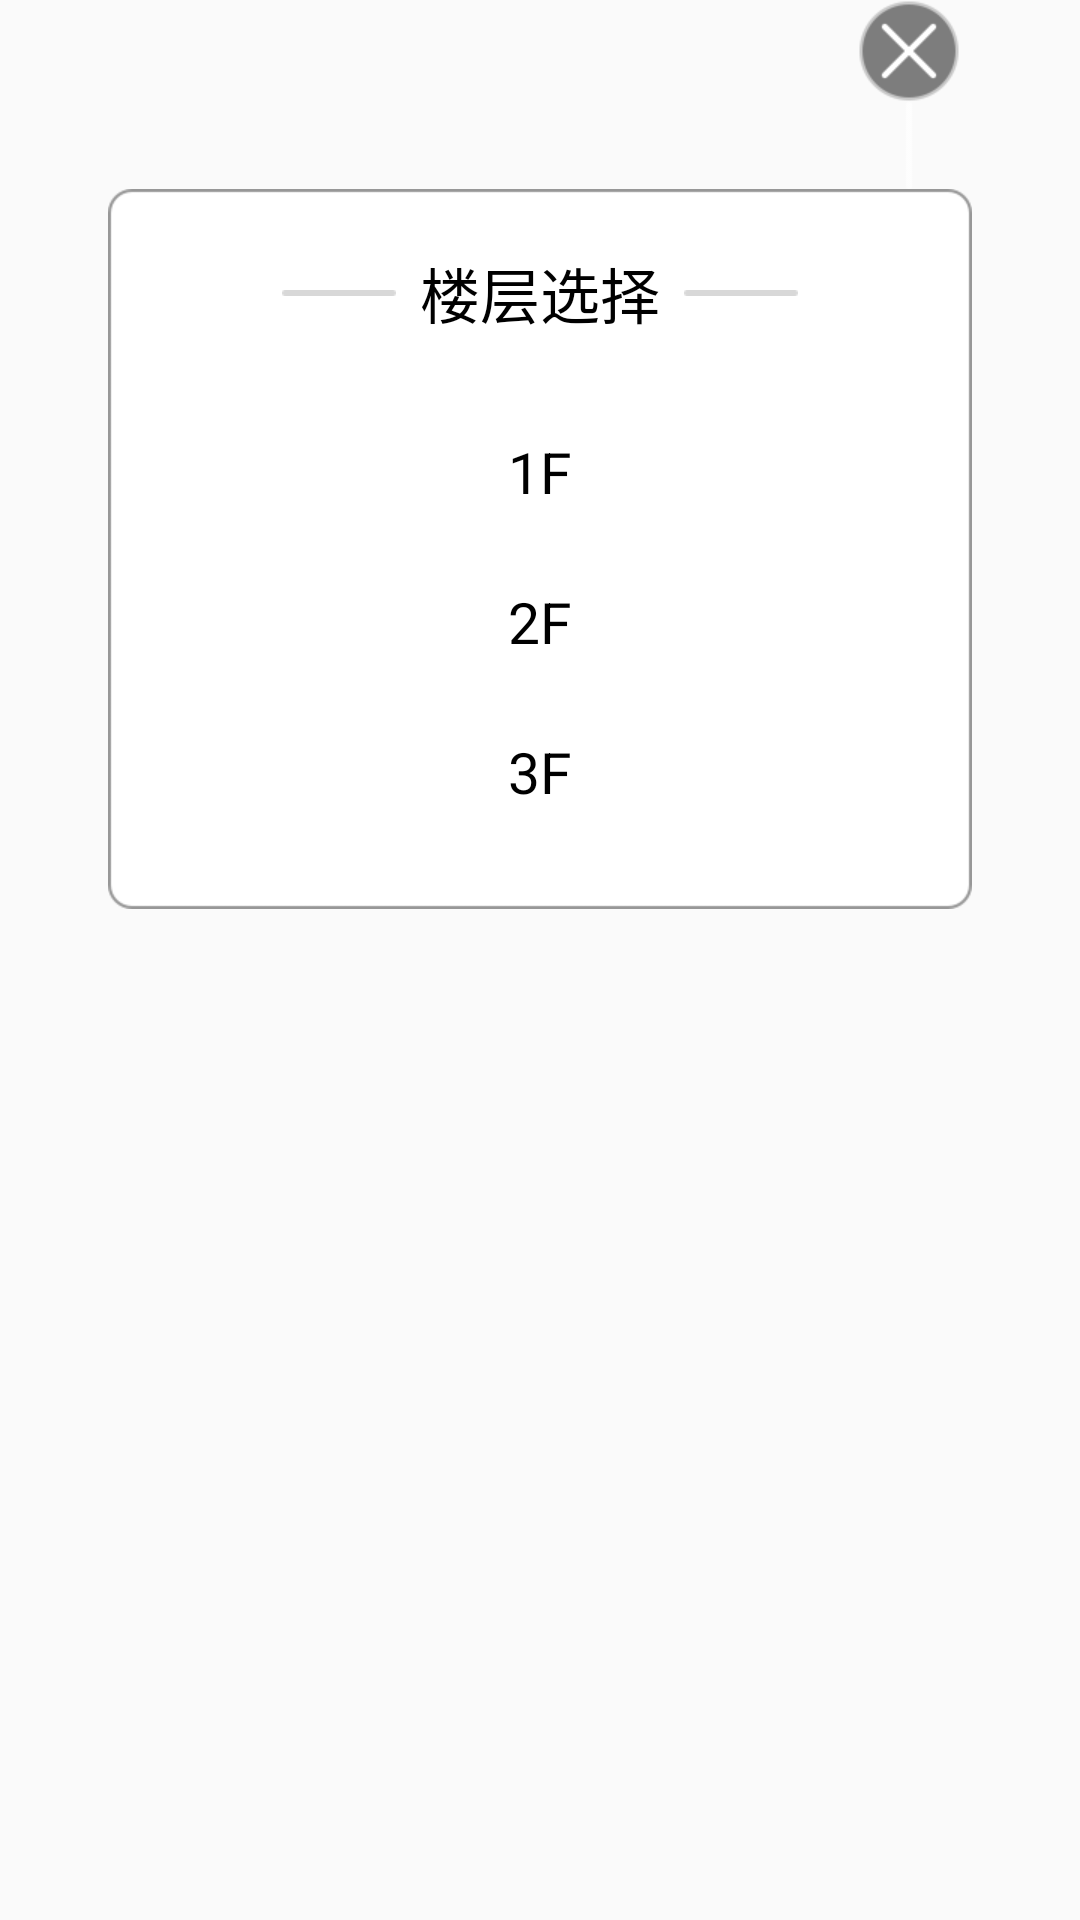

Icon click points for this 1080x1920 phone screenshot, format (x,y):
close dilog: (909,51)
